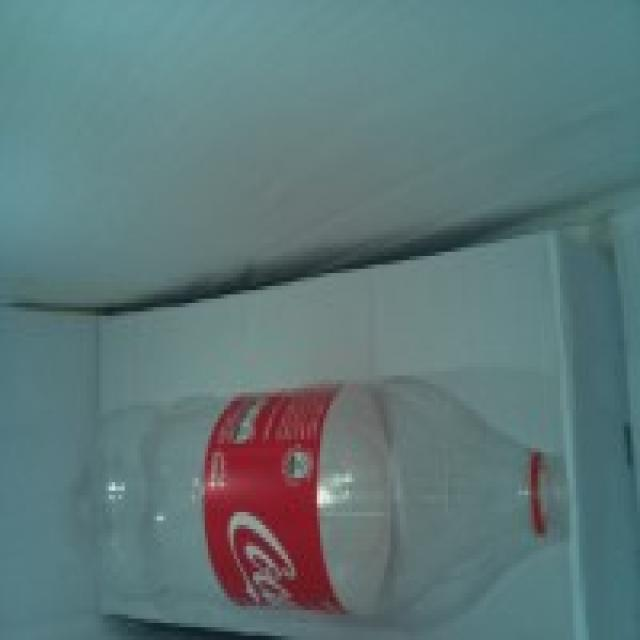Anorganik: (70, 384, 570, 610)
